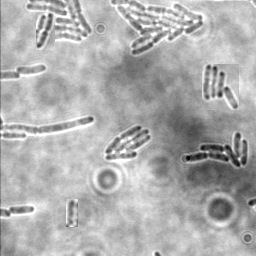Dividing: (1, 114, 95, 133), (36, 12, 55, 50), (8, 204, 35, 215)
Microcolony: (109, 1, 205, 56), (25, 1, 94, 44), (184, 130, 248, 167), (202, 64, 239, 110), (103, 124, 150, 160), (16, 63, 48, 74)
Rod: (66, 199, 78, 227)
